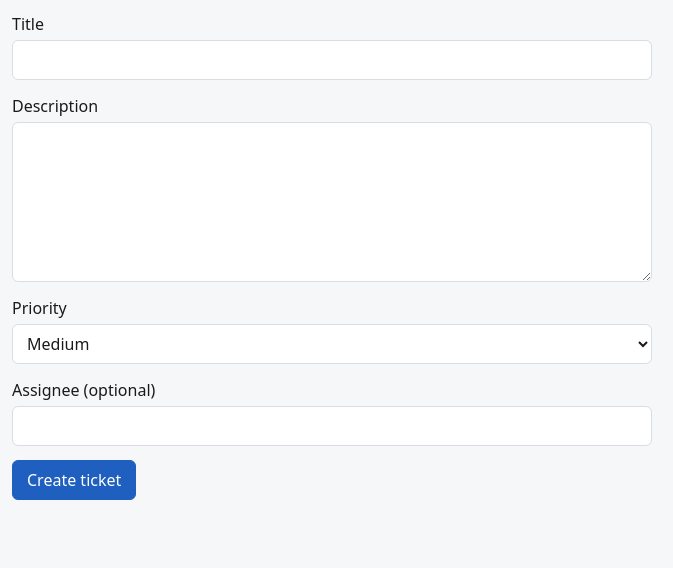
CreateTicketForm (REQ-1, TS-FE-02) › shows client-side hints and does not submit when required fields are empty
Click the button "Create ticket" at [74, 480], box [12,460,136,500]
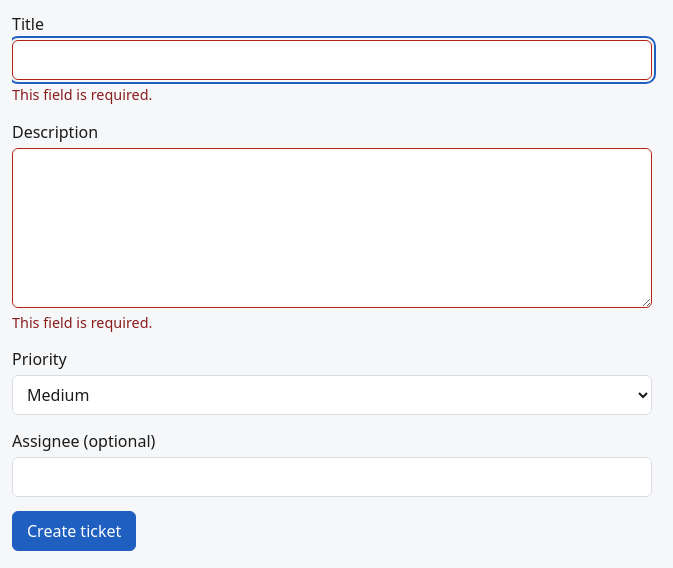
Now the text "This field is required." is shown 2 times, box [12,85,152,104]; [12,313,152,332]
